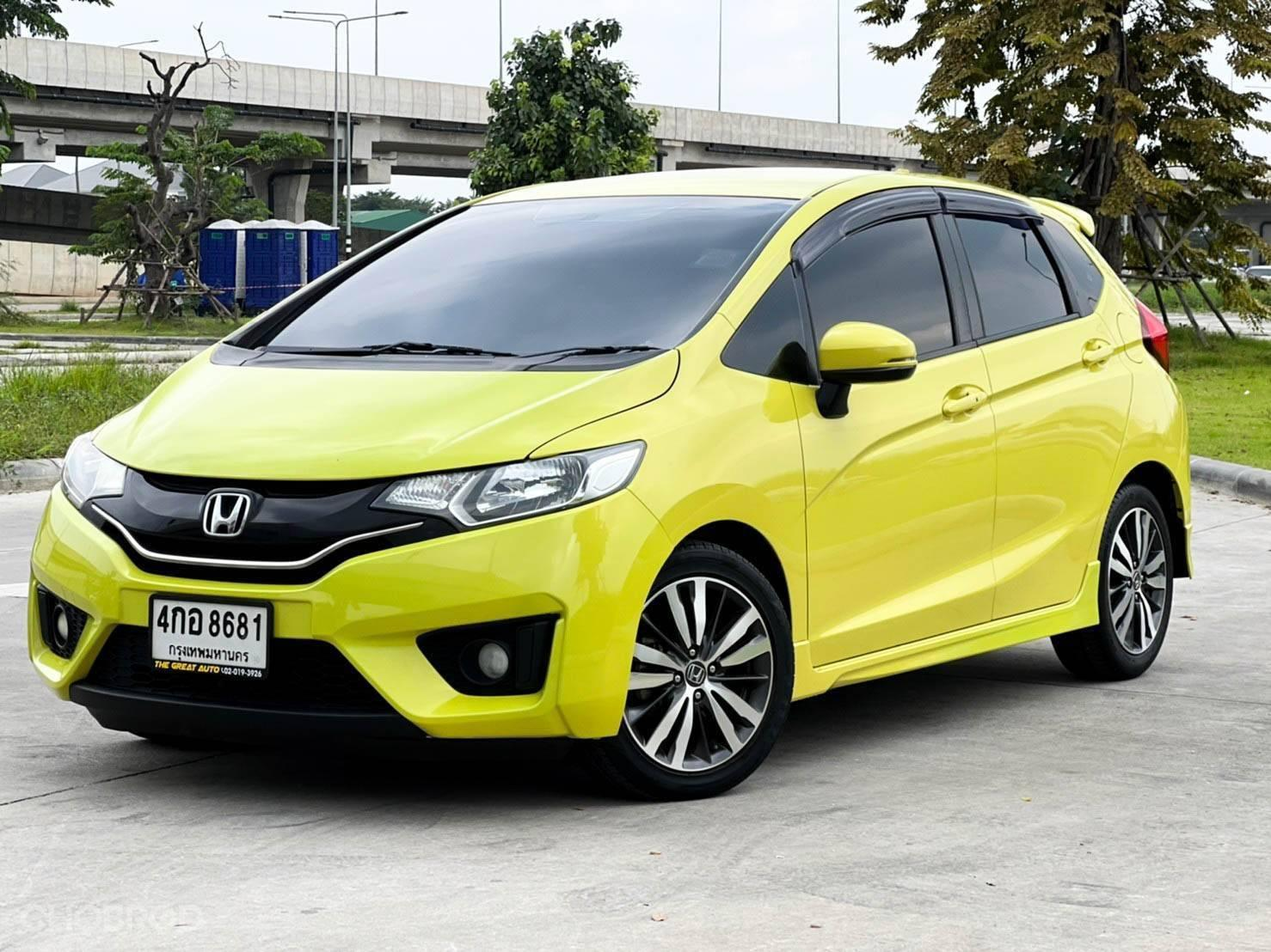license-plate: (148, 587, 278, 683)
